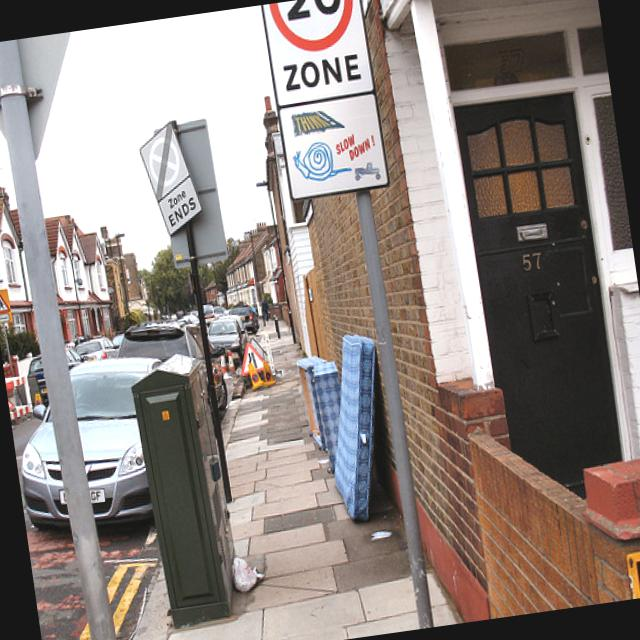Vehicle: (9, 359, 172, 536), (113, 316, 208, 386), (24, 347, 87, 410), (206, 317, 244, 357), (73, 335, 121, 364), (218, 313, 248, 352), (230, 305, 260, 333), (177, 314, 201, 329), (203, 308, 220, 329)
